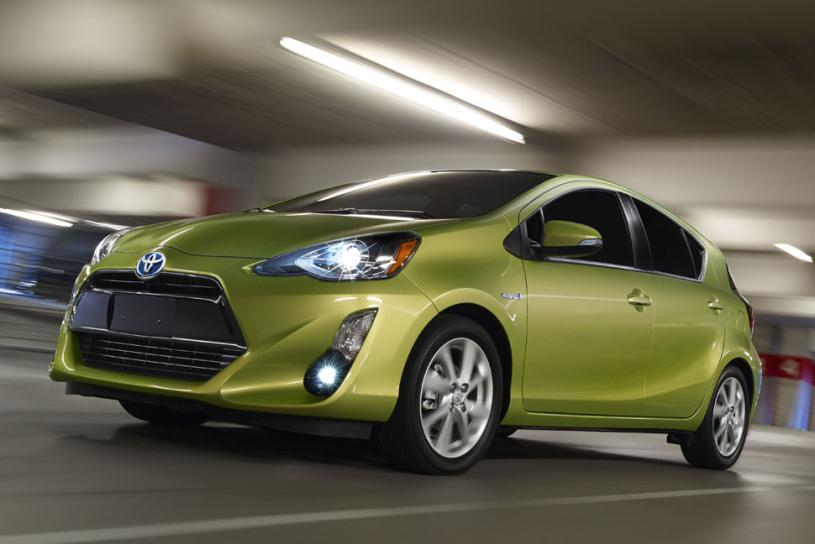Toyota Prius: (43, 167, 764, 478)
